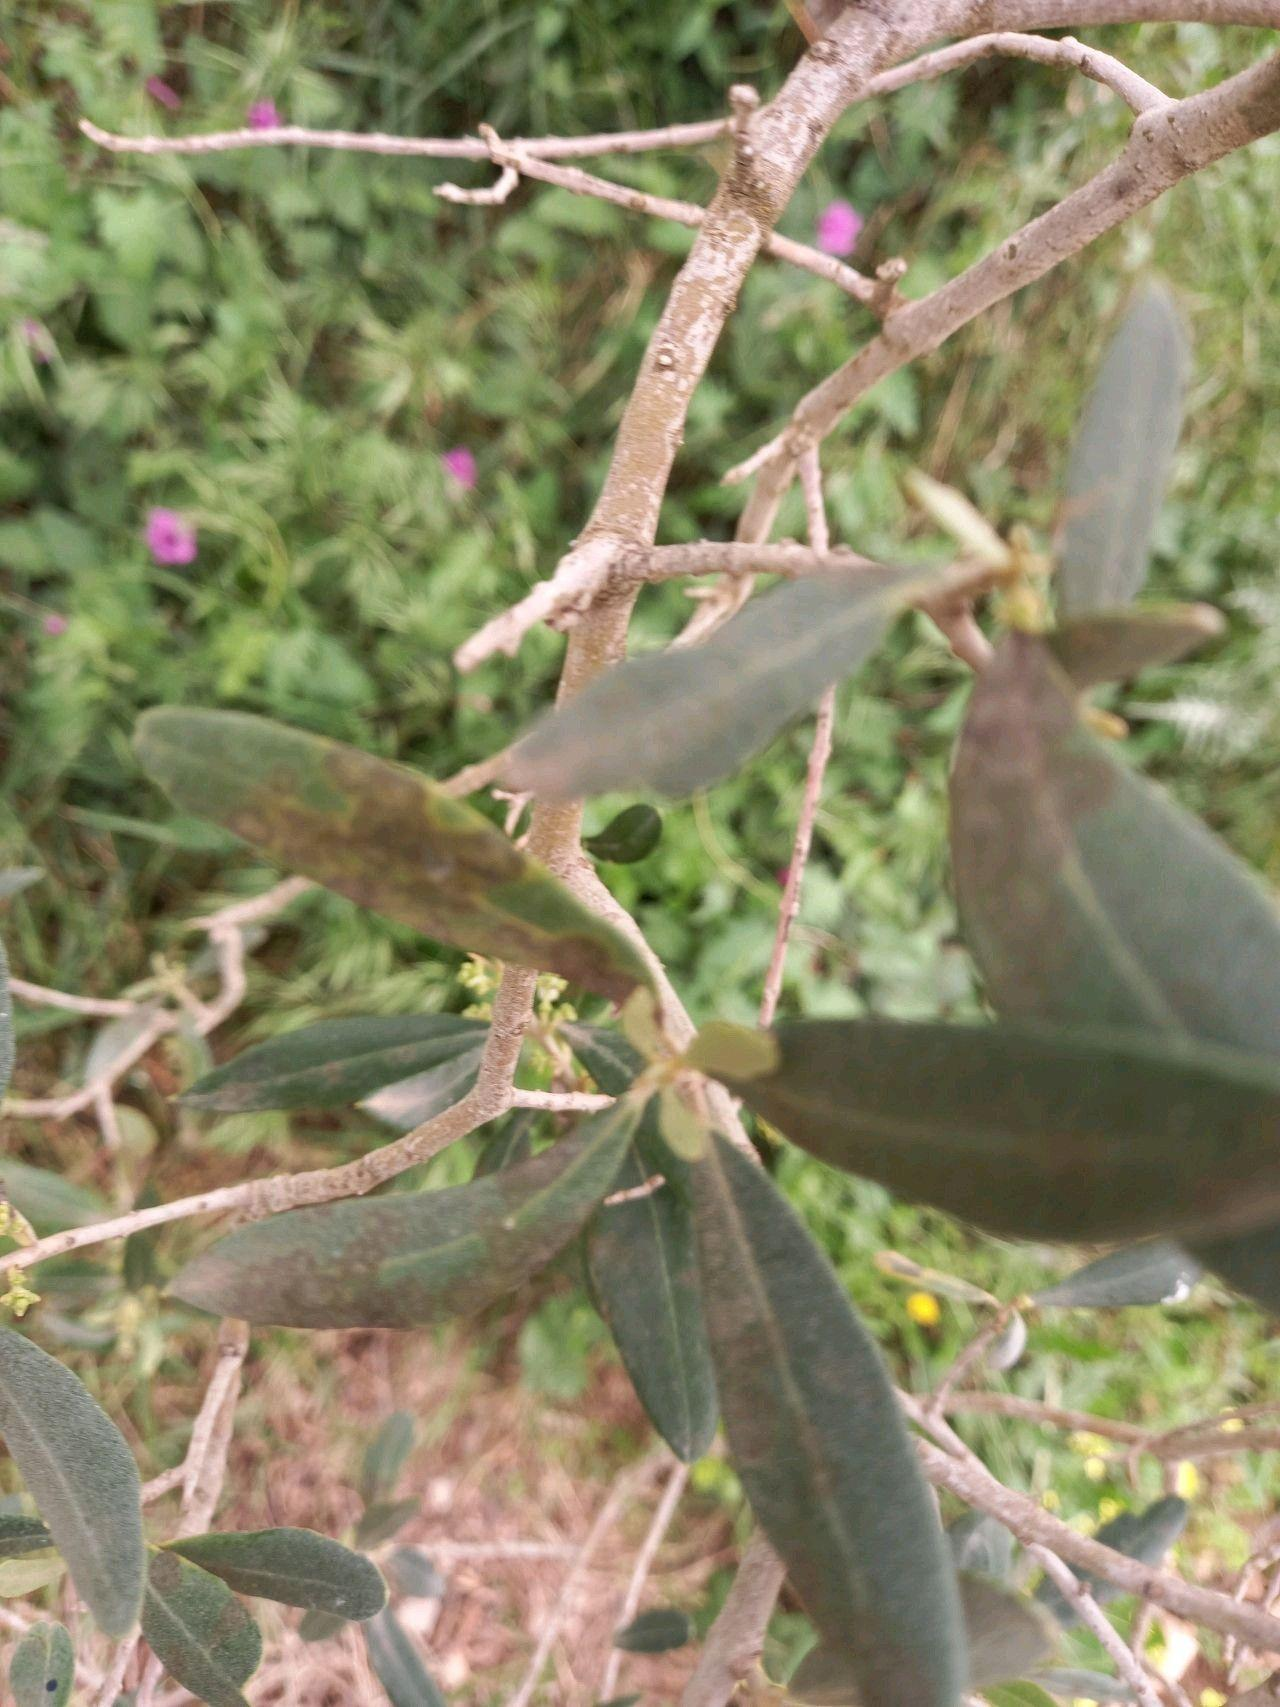OlivePeacockSpot: (128, 687, 666, 992), (687, 1133, 960, 1707), (713, 1016, 1277, 1253), (160, 1073, 653, 1335), (945, 657, 1271, 1047), (582, 1155, 722, 1457), (122, 1535, 265, 1703)
